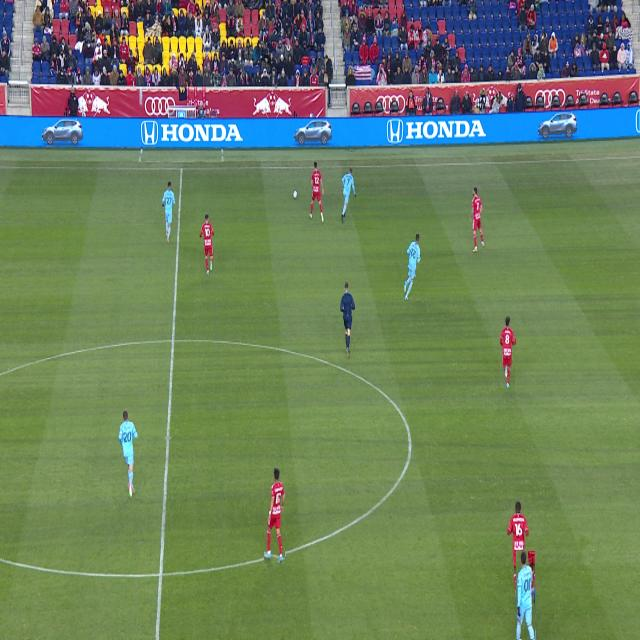football: (293, 190, 298, 199)
player: (507, 501, 529, 605), (265, 469, 285, 564), (119, 410, 138, 498), (517, 552, 535, 639), (404, 234, 421, 301), (501, 316, 515, 388), (470, 186, 485, 252), (199, 214, 214, 275), (309, 162, 324, 223), (162, 181, 176, 243), (341, 168, 356, 223)
referee: (340, 282, 355, 358)
